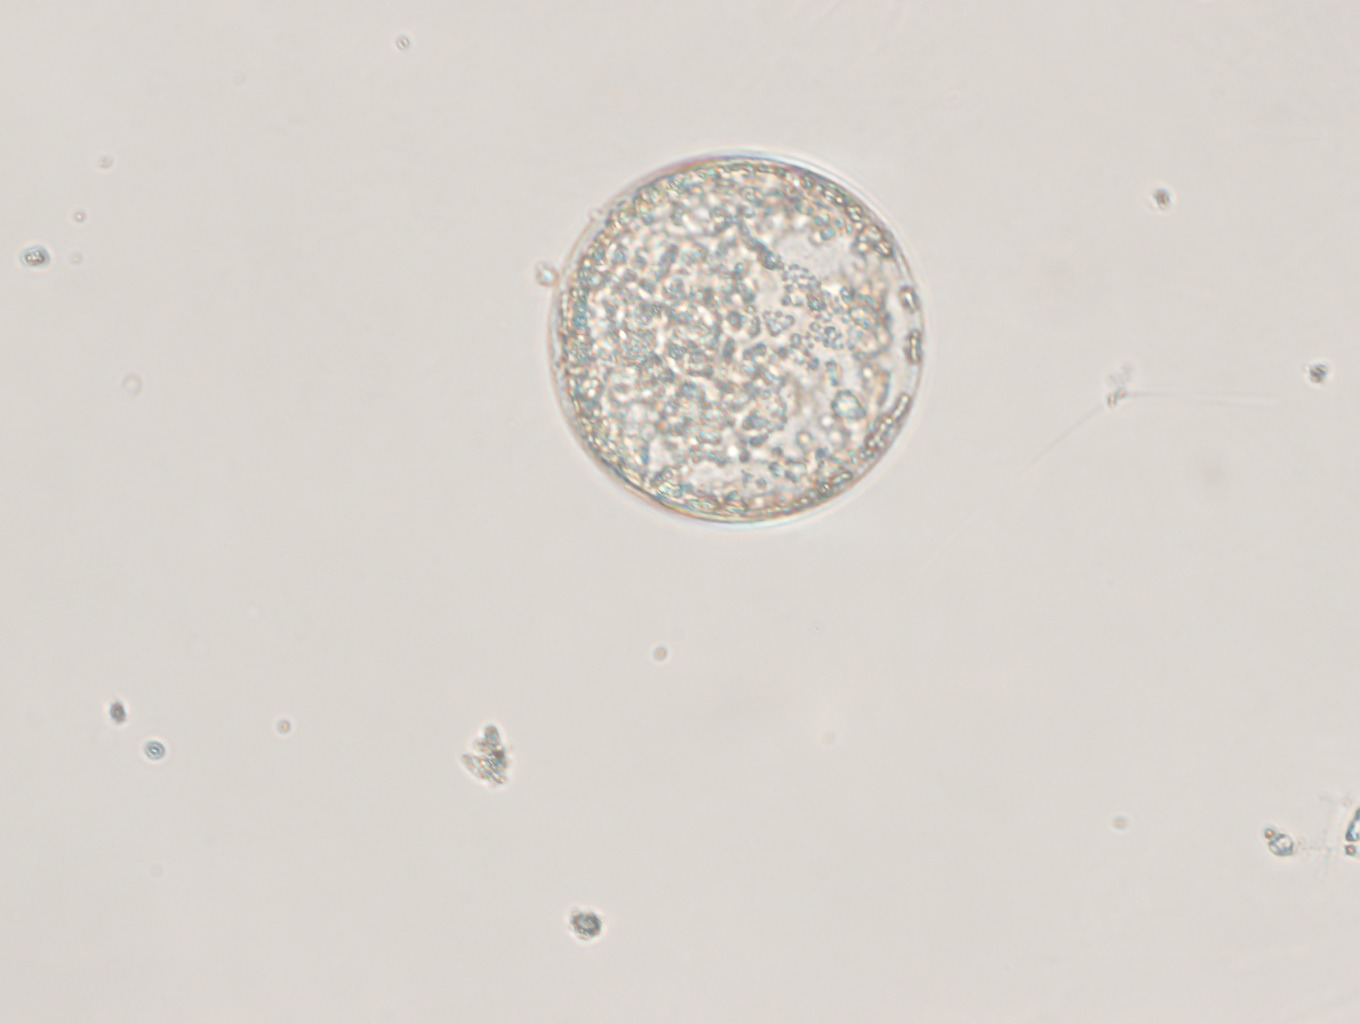coscinodiscus: (541, 153, 937, 531)
